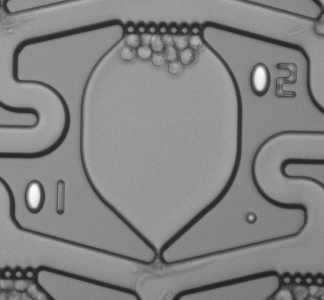AptNum: (244, 56, 302, 103)
Marker: (244, 209, 258, 227)
StNum: (21, 176, 72, 220)
